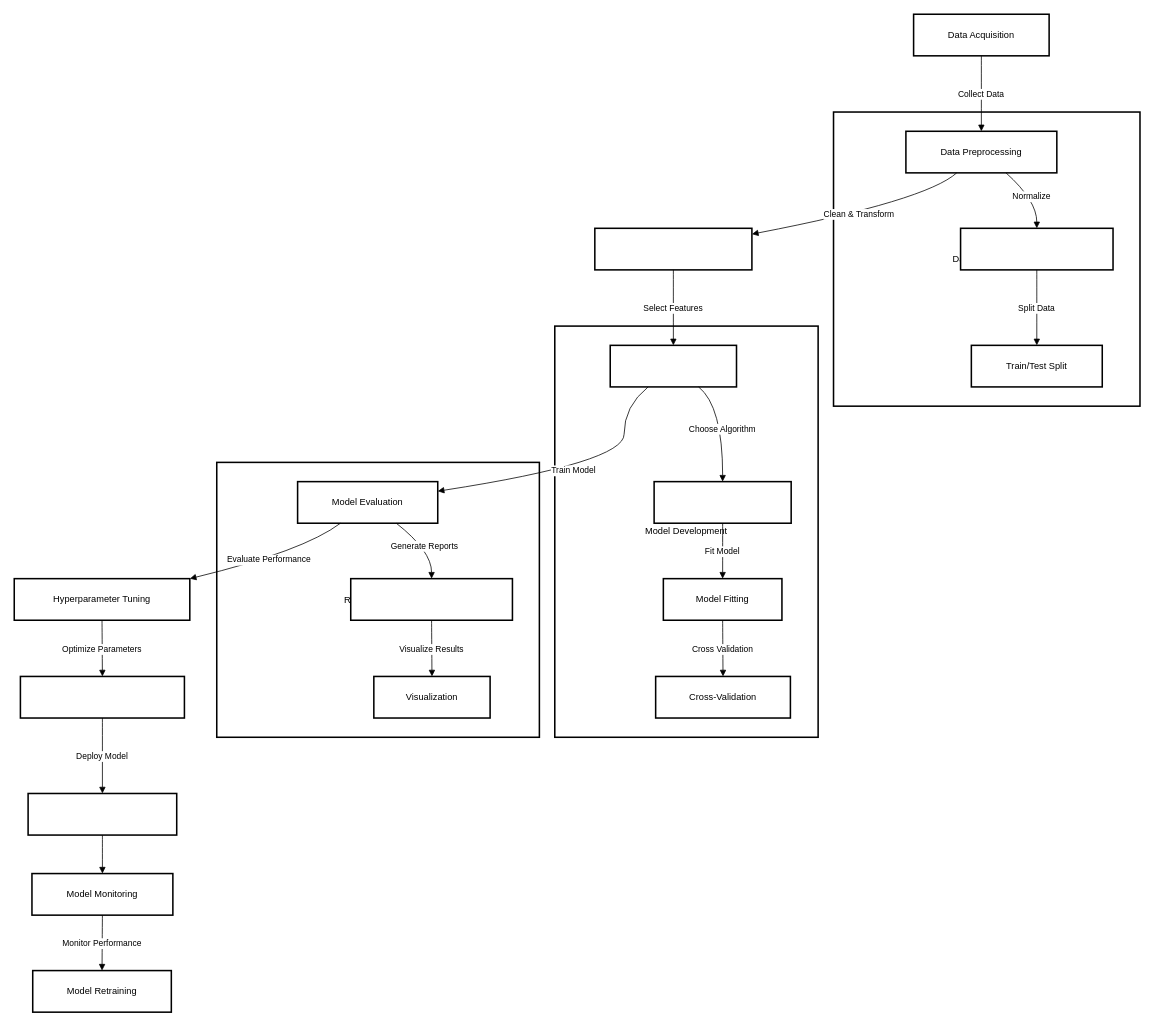
Some shapes in this 1153 by 1026 pixel diagram are drawn without their labels. Here are the shapes that lost their labels. From the top down, the centre of each, then its label:
At pixel 673 248: "Feature Engineering".
At pixel 1036 248: "Data Normalization".
At pixel 673 365: "Model Training".
At pixel 722 502: "Select Algorithm".
At pixel 431 599: "Performance Reports".
At pixel 102 696: "Final Model Selection".
At pixel 102 813: "Model Deployment".
